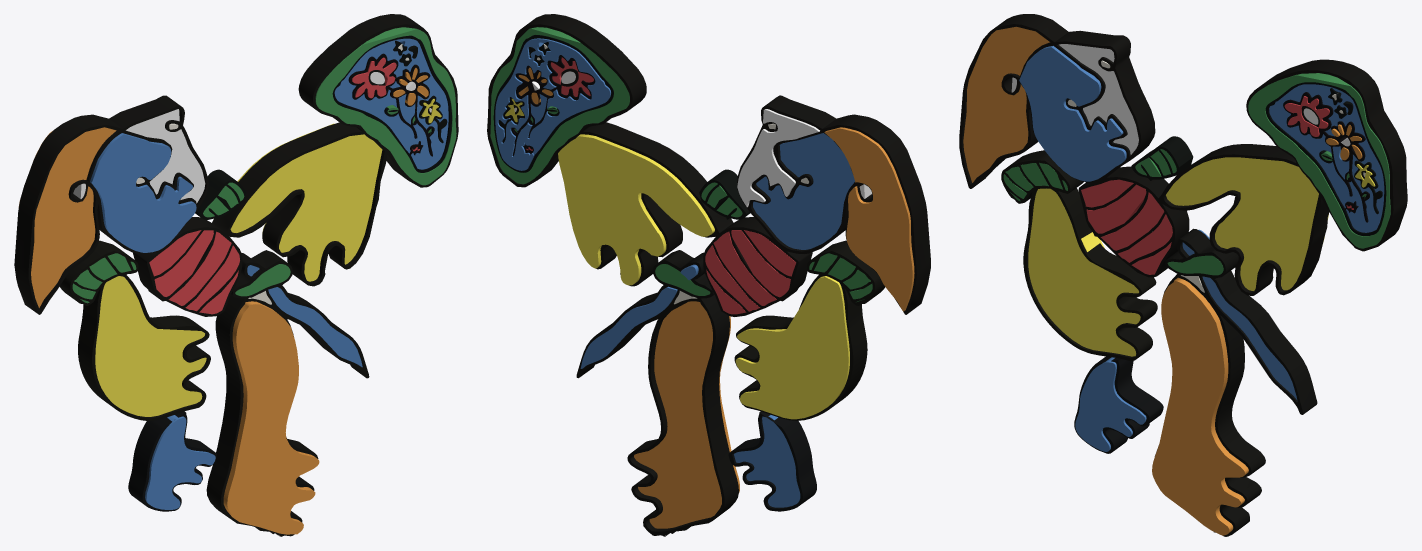
Rendered from ocean.glb.
The picture shows the model from 3 angles, left to right: view 1: azimuth 30°, elevation 25°; view 2: azimuth 150°, elevation 25°; view 3: azimuth 330°, elevation 25°; orthographic projection.
Visible parts, largest first — view 1: Shape 16, Shape 28, Shape 33, Shape 7, Shape 19, Shape 21, Shape 27, Shape 6, Shape 36, Shape 34, Shape 15, Shape 17 (+11 smaller); view 2: Shape 16, Shape 33, Shape 28, Shape 7, Shape 27, Shape 21, Shape 19, Shape 36, Shape 6, Shape 34, Shape 17, Shape 15 (+11 smaller); view 3: Shape 16, Shape 28, Shape 33, Shape 7, Shape 27, Shape 19, Shape 21, Shape 6, Shape 34, Shape 36, Shape 15, Shape 17 (+11 smaller).
Boxes of the visible parts, <box> form: Shape 16: <box>14,14,458,316</box>; Shape 28: <box>223,301,319,534</box>; Shape 33: <box>230,123,382,281</box>; Shape 7: <box>95,276,206,416</box>; Shape 19: <box>90,133,196,252</box>; Shape 21: <box>18,127,116,307</box>; Shape 27: <box>206,250,369,536</box>; Shape 6: <box>59,240,210,420</box>; Shape 36: <box>334,38,448,169</box>; Shape 34: <box>315,27,456,185</box>; Shape 15: <box>145,415,215,509</box>; Shape 17: <box>126,109,205,203</box>; Shape 16: <box>487,14,930,316</box>; Shape 33: <box>558,134,714,285</box>; Shape 28: <box>634,301,739,528</box>; Shape 7: <box>735,276,849,419</box>; Shape 27: <box>576,250,738,536</box>; Shape 21: <box>824,127,914,311</box>; Shape 19: <box>753,133,854,249</box>; Shape 36: <box>495,38,610,170</box>; Shape 6: <box>734,240,885,420</box>; Shape 34: <box>490,27,629,184</box>; Shape 17: <box>737,109,819,207</box>; Shape 15: <box>734,415,800,507</box>; Shape 16: <box>959,14,1407,295</box>; Shape 28: <box>1152,277,1248,535</box>; Shape 33: <box>1166,157,1328,290</box>; Shape 7: <box>1028,188,1140,356</box>; Shape 27: <box>1154,228,1317,536</box>; Shape 19: <box>1019,46,1126,181</box>; Shape 21: <box>963,26,1049,182</box>; Shape 6: <box>1001,150,1157,361</box>; Shape 34: <box>1248,73,1390,248</box>; Shape 36: <box>1269,84,1384,232</box>; Shape 15: <box>1075,357,1146,451</box>; Shape 17: <box>1059,44,1138,154</box>.
Bounding box in the file's own units: 7.07 × 7.62 × 0.5893.
